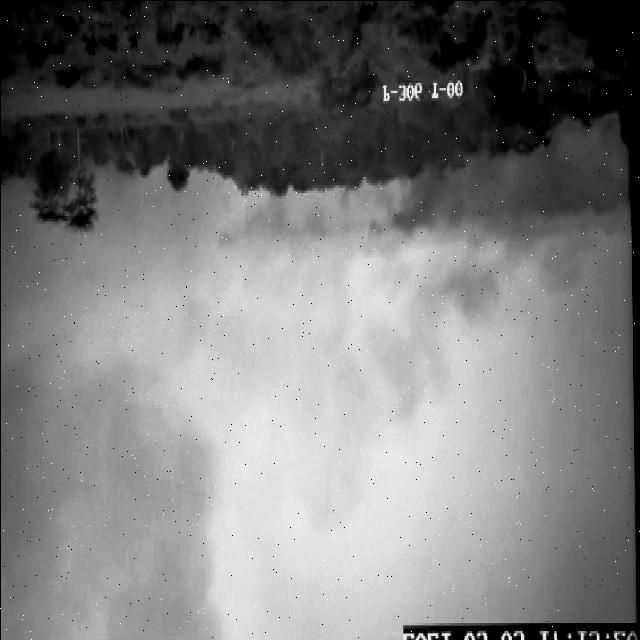asap: (1, 139, 269, 640), (275, 111, 545, 541), (549, 106, 631, 219)
